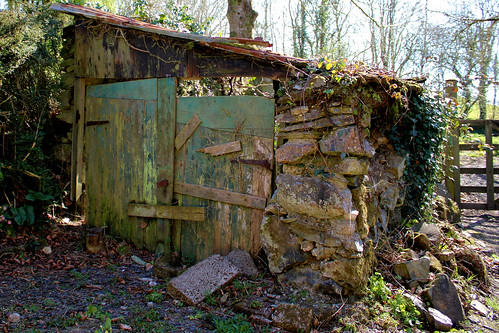building: (48, 6, 430, 308)
